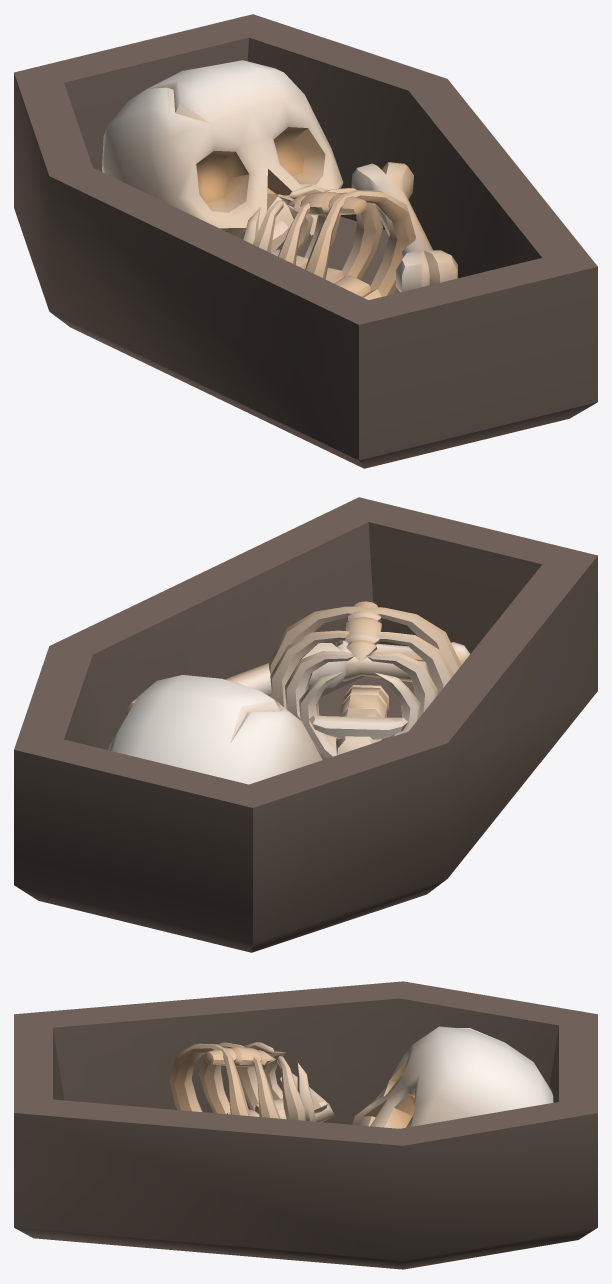
File: coffin_decorated.glb
The picture shows the model from 3 angles, top to bottom: view 1: azimuth 30°, elevation 25°; view 2: azimuth 150°, elevation 25°; view 3: azimuth 270°, elevation 25°; orthographic projection. The views are drawn at different scales.
Parts seen in each view (by area): view 1: coffin_decorated; view 2: coffin_decorated; view 3: coffin_decorated.
Boxes of the visible parts, x1,y1,x2,y2 form: coffin_decorated: [14, 14, 597, 468]; coffin_decorated: [14, 497, 597, 952]; coffin_decorated: [14, 981, 597, 1269].
Bounding box in the file's own units: 2 × 0.9025 × 3.
Materials: 1 (1 with a texture image).
